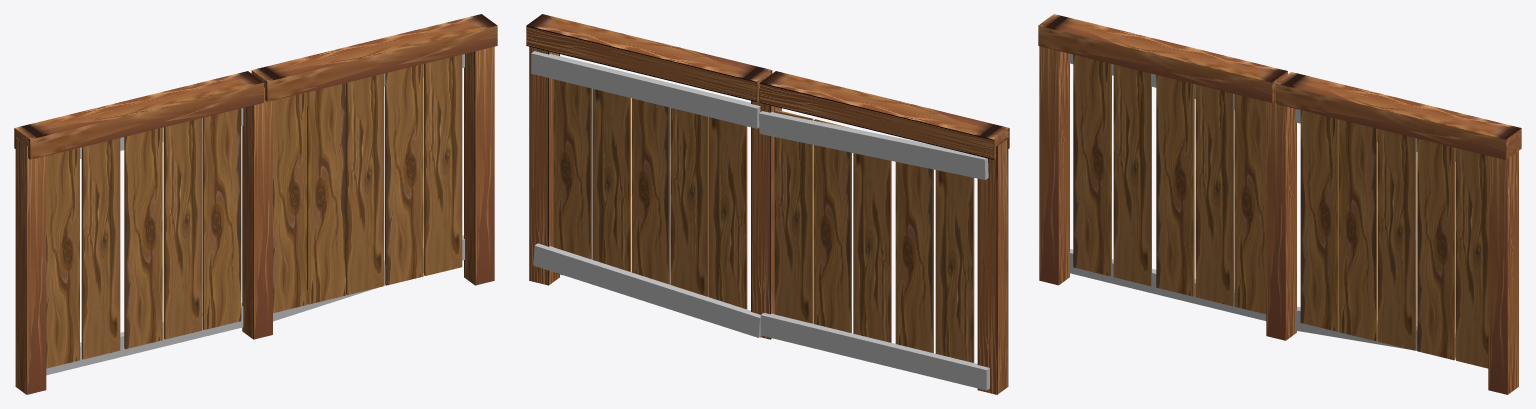
The model's file is WoodWall.fbx.
3 views of the same model, side by side, from view 1: azimuth 30°, elevation 25°; view 2: azimuth 150°, elevation 25°; view 3: azimuth 330°, elevation 25° (orthographic).
Parts seen in each view (by area): view 1: pCube29; view 2: pCube29; view 3: pCube29.
Boxes of the visible parts, x1,y1,x2,y2 form: pCube29: (14, 14, 497, 394); pCube29: (526, 14, 1009, 394); pCube29: (1038, 14, 1521, 394).
Size of the model in its own units: 24.07 by 12.61 by 1.49.
